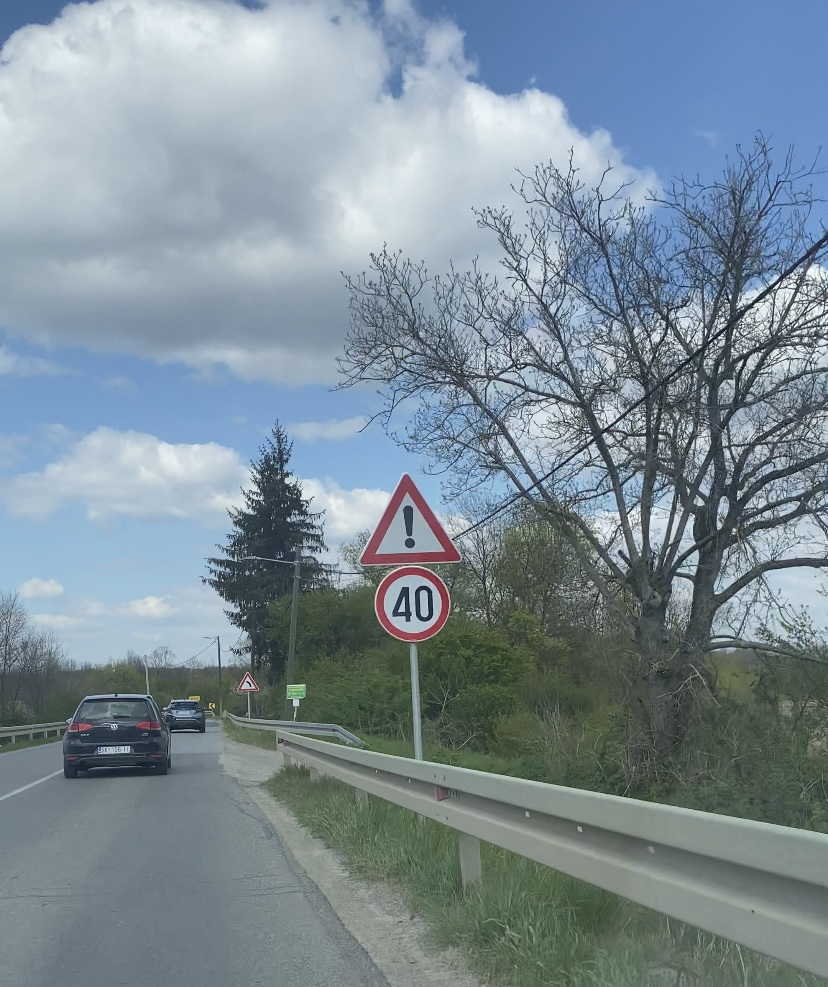Ograničenje brzine 40: (374, 565, 451, 642)
